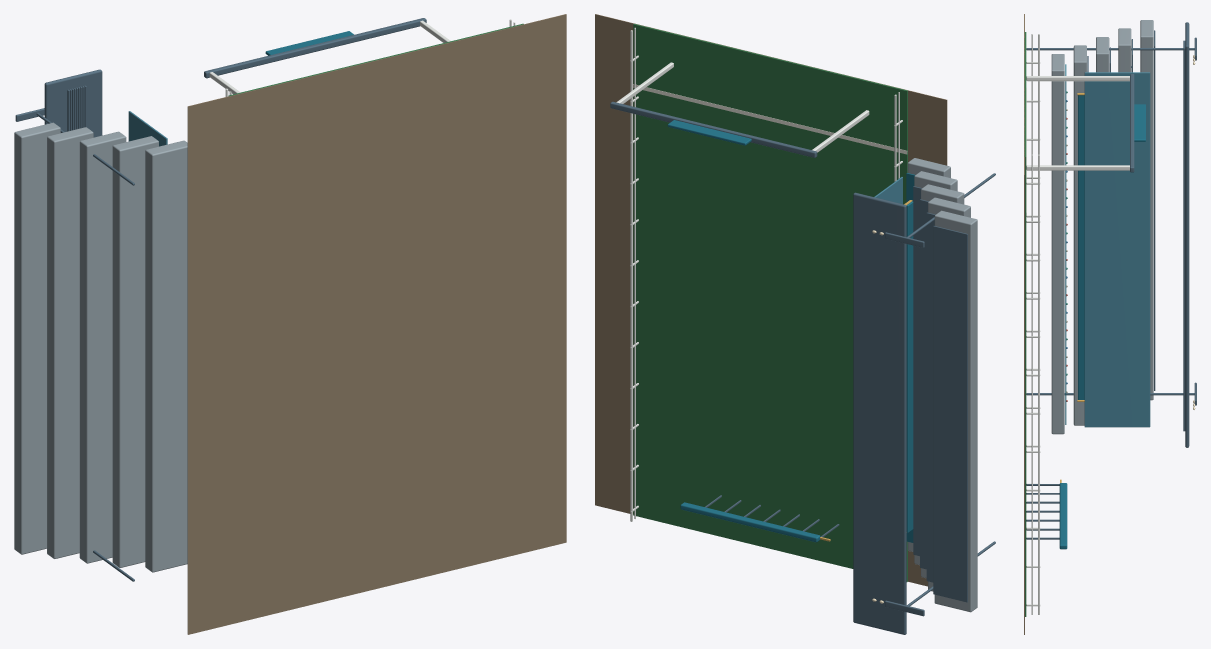
Rendered from Greenfield_Trackside_Kit.fbx.
The picture shows the model from 3 angles, left to right: view 1: azimuth 30°, elevation 25°; view 2: azimuth 150°, elevation 25°; view 3: azimuth 270°, elevation 25°; orthographic projection. The views are drawn at different scales.
Parts seen in each view (by area): view 1: Tan course apron, Grandstand terrace, Grandstand terrace.001, Grandstand terrace.002, Grandstand terrace.004, Grandstand terrace.003, Covered grandstand roof, Finish gantry; view 2: Cut turf straight segment, Covered grandstand roof, Tan course apron, Seat fascia.004, Grandstand terrace.004, Seat fascia.003, Turf series fascia, Seat fascia.002, Seat fascia.001, Upper race rail.001, Finish gantry, Starting gate fascia (+7 smaller); view 3: Panoramic glass wall, Grandstand terrace, Grandstand terrace.001, Covered grandstand roof, Turf series fascia, Grandstand terrace.004, Cut turf straight segment, Canopy rib, Upper race rail.001, Lower race rail.001, Seat fascia.004, Seat fascia (+9 smaller).
Boxes of the visible parts, x1,y1,x2,y2 form: Tan course apron: [187, 14, 566, 634]; Grandstand terrace: [145, 140, 187, 572]; Grandstand terrace.001: [112, 136, 158, 567]; Grandstand terrace.002: [79, 131, 126, 563]; Grandstand terrace.004: [14, 122, 60, 554]; Grandstand terrace.003: [47, 127, 93, 558]; Covered grandstand roof: [44, 69, 102, 137]; Finish gantry: [204, 18, 426, 78]; Cut turf straight segment: [633, 24, 907, 581]; Covered grandstand roof: [853, 192, 906, 634]; Tan course apron: [595, 14, 947, 586]; Seat fascia.004: [933, 226, 967, 602]; Grandstand terrace.004: [934, 210, 977, 612]; Seat fascia.003: [926, 212, 935, 582]; Turf series fascia: [906, 201, 913, 532]; Seat fascia.002: [920, 199, 928, 569]; Seat fascia.001: [913, 186, 921, 556]; Upper race rail.001: [630, 30, 632, 521]; Finish gantry: [610, 101, 817, 157]; Starting gate fascia: [680, 502, 820, 542]; Panoramic glass wall: [1084, 72, 1150, 427]; Grandstand terrace: [1051, 54, 1064, 434]; Grandstand terrace.001: [1073, 45, 1086, 425]; Covered grandstand roof: [1185, 22, 1189, 447]; Turf series fascia: [1078, 95, 1084, 399]; Grandstand terrace.004: [1140, 20, 1153, 400]; Cut turf straight segment: [1024, 32, 1026, 616]; Canopy rib: [1183, 47, 1185, 431]; Upper race rail.001: [1038, 154, 1039, 614]; Lower race rail.001: [1031, 154, 1032, 614]; Seat fascia.004: [1154, 30, 1155, 390]; Seat fascia: [1065, 64, 1066, 424].
Size of the model in its own units: 45.5 by 48 by 16.33.
